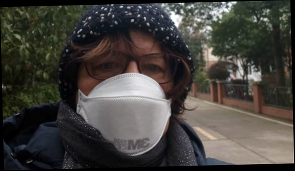with_mask: (76, 43, 176, 157)
